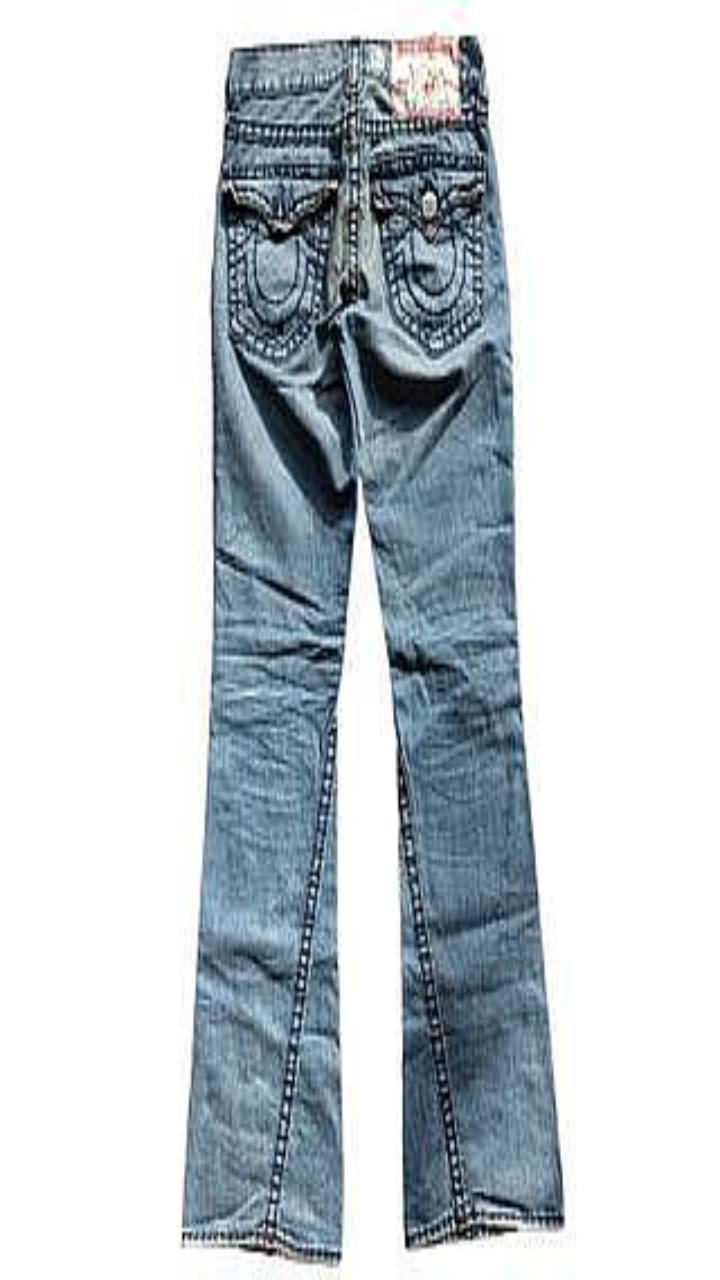Jeans: (182, 35, 563, 1262)
